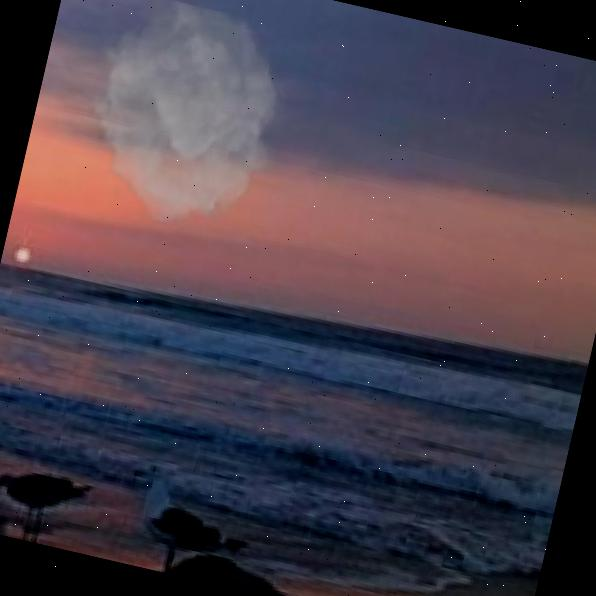smoke: (60, 0, 309, 244)
